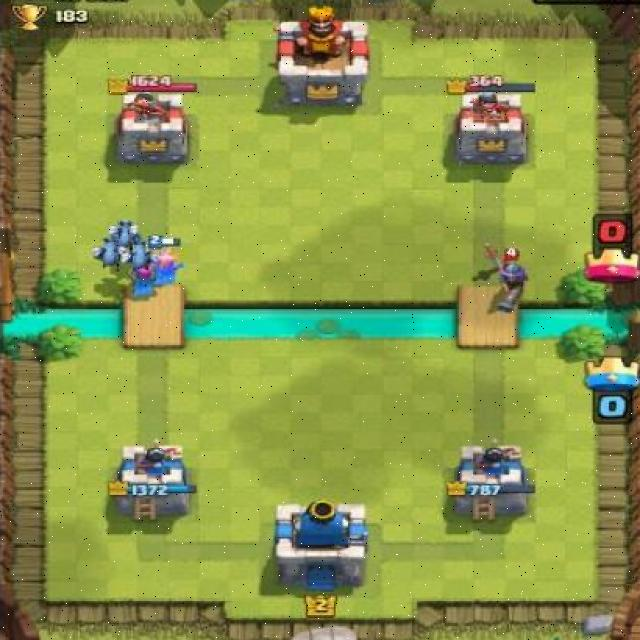Enemy-Musketeer: (489, 246, 532, 318)
Player-Archer: (143, 233, 188, 291), (126, 260, 163, 304)
Player-Minion: (113, 233, 165, 277), (104, 216, 149, 258), (88, 234, 137, 272)
